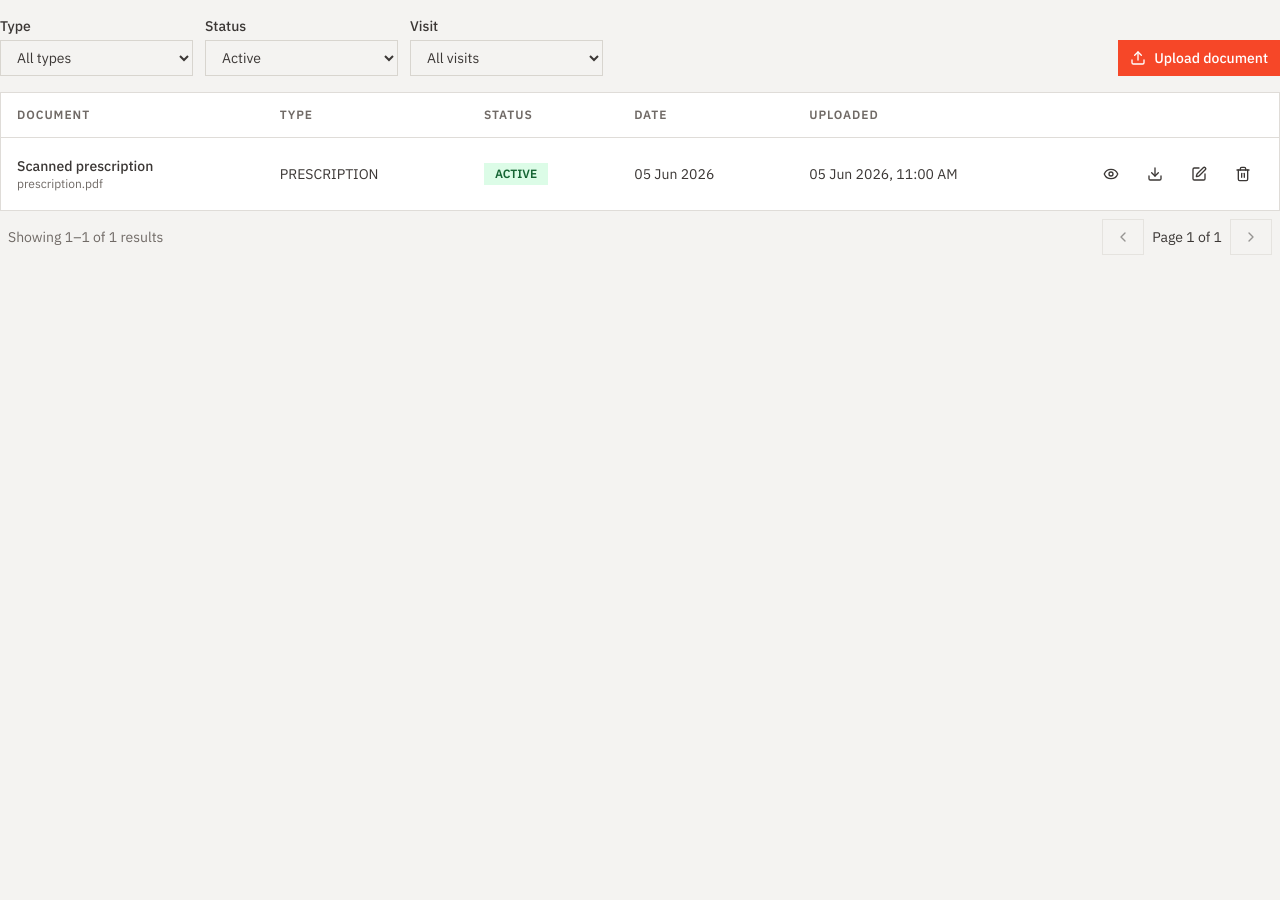
Test case: DocumentsTab › soft-deletes with confirmation
Click the button named "delete prescription.pdf". click: {"x": 1243, "y": 174}
box: [1223,154,1263,194]
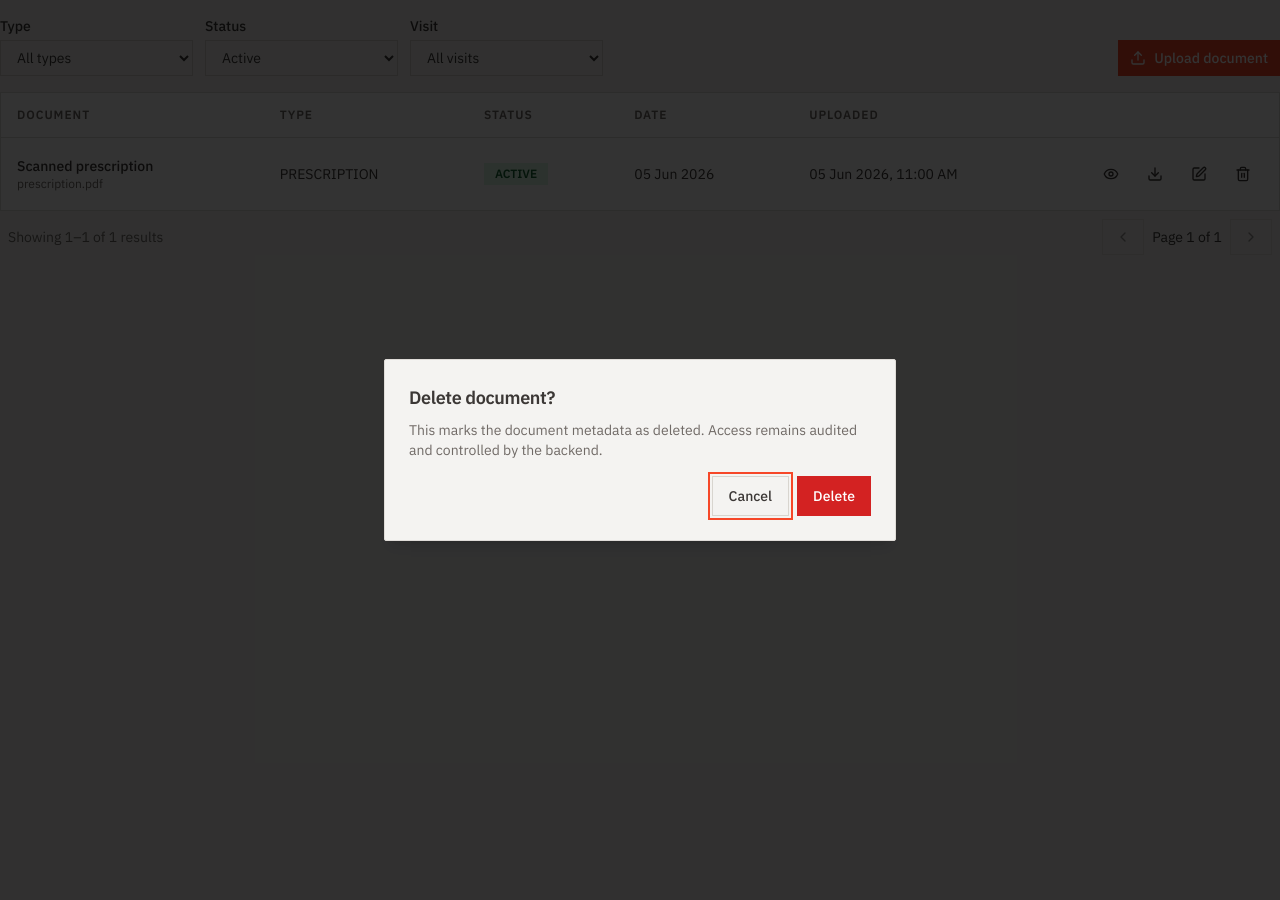
Click the button "Delete". click: {"x": 834, "y": 496}
box: [797,476,871,516]
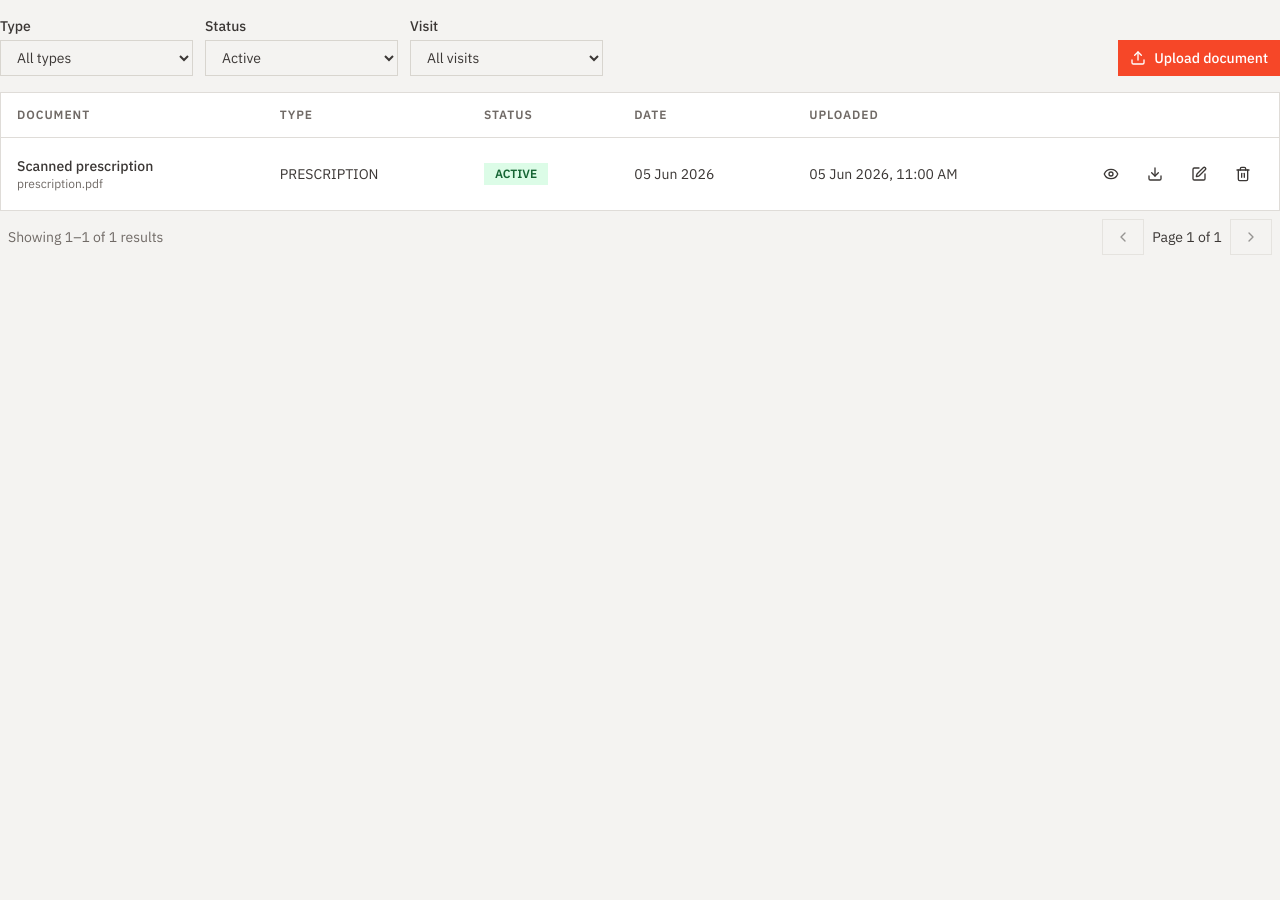
Check: the text "marks the document metadata as deleted" is gone
